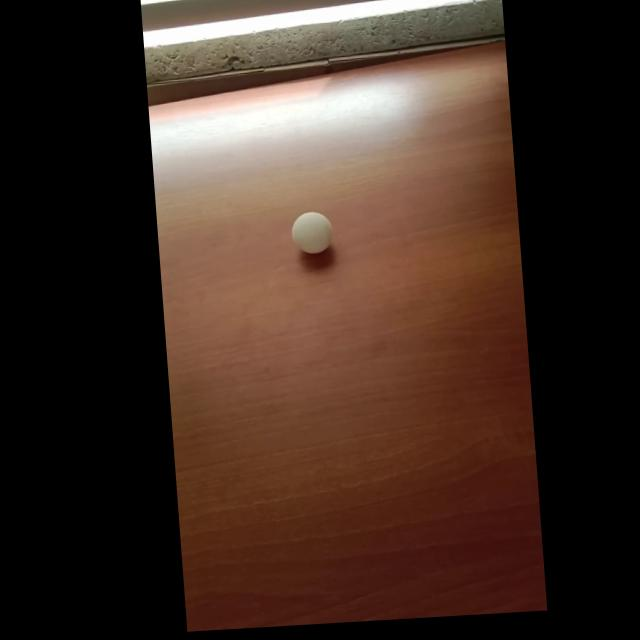white ball: (289, 210, 334, 255)
